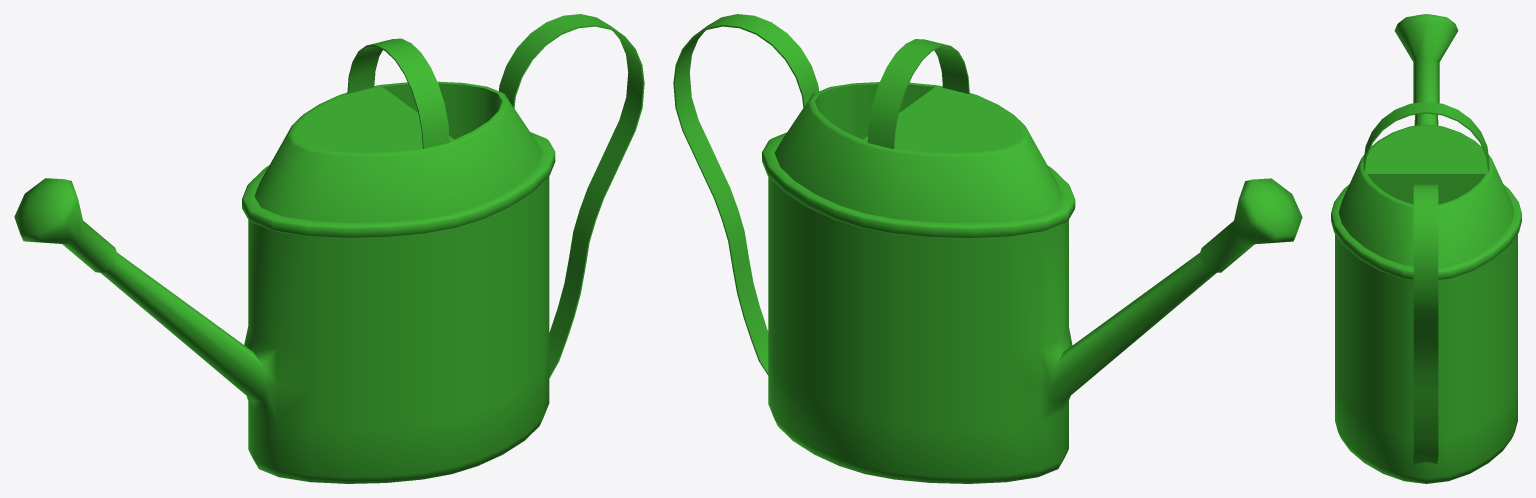
File: wateringcan.fbx
3 renders of one model, left to right at view 1: azimuth 30°, elevation 25°; view 2: azimuth 150°, elevation 25°; view 3: azimuth 270°, elevation 25°, orthographic. The views are drawn at different scales.
Visible parts, largest first — view 1: watering can; view 2: watering can; view 3: watering can.
Part boxes in pixels (bbox=[...]): watering can: bbox=[14, 14, 644, 483]; watering can: bbox=[673, 14, 1302, 483]; watering can: bbox=[1331, 14, 1521, 483].
Size of the model in its own units: 6.41 by 3.9 by 2.08.
